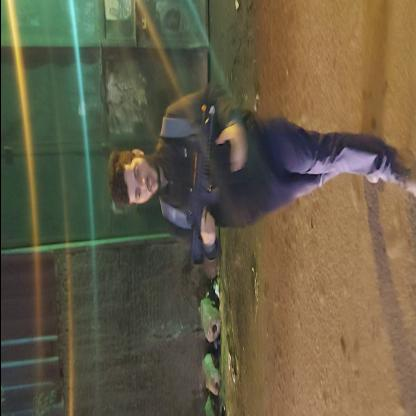long weapon: (178, 96, 228, 284)
